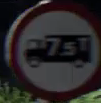Heavy Vehicles: (9, 6, 94, 86)
